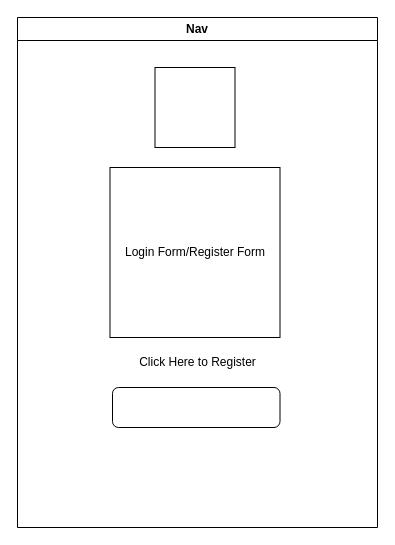
Some shapes in this 395 by 545 pixel diagram are drawn without their labels. The centre of each missing label's shape, as x and y in pixels:
Login with Google: (x=196, y=407)
LOGO: (x=194, y=107)
